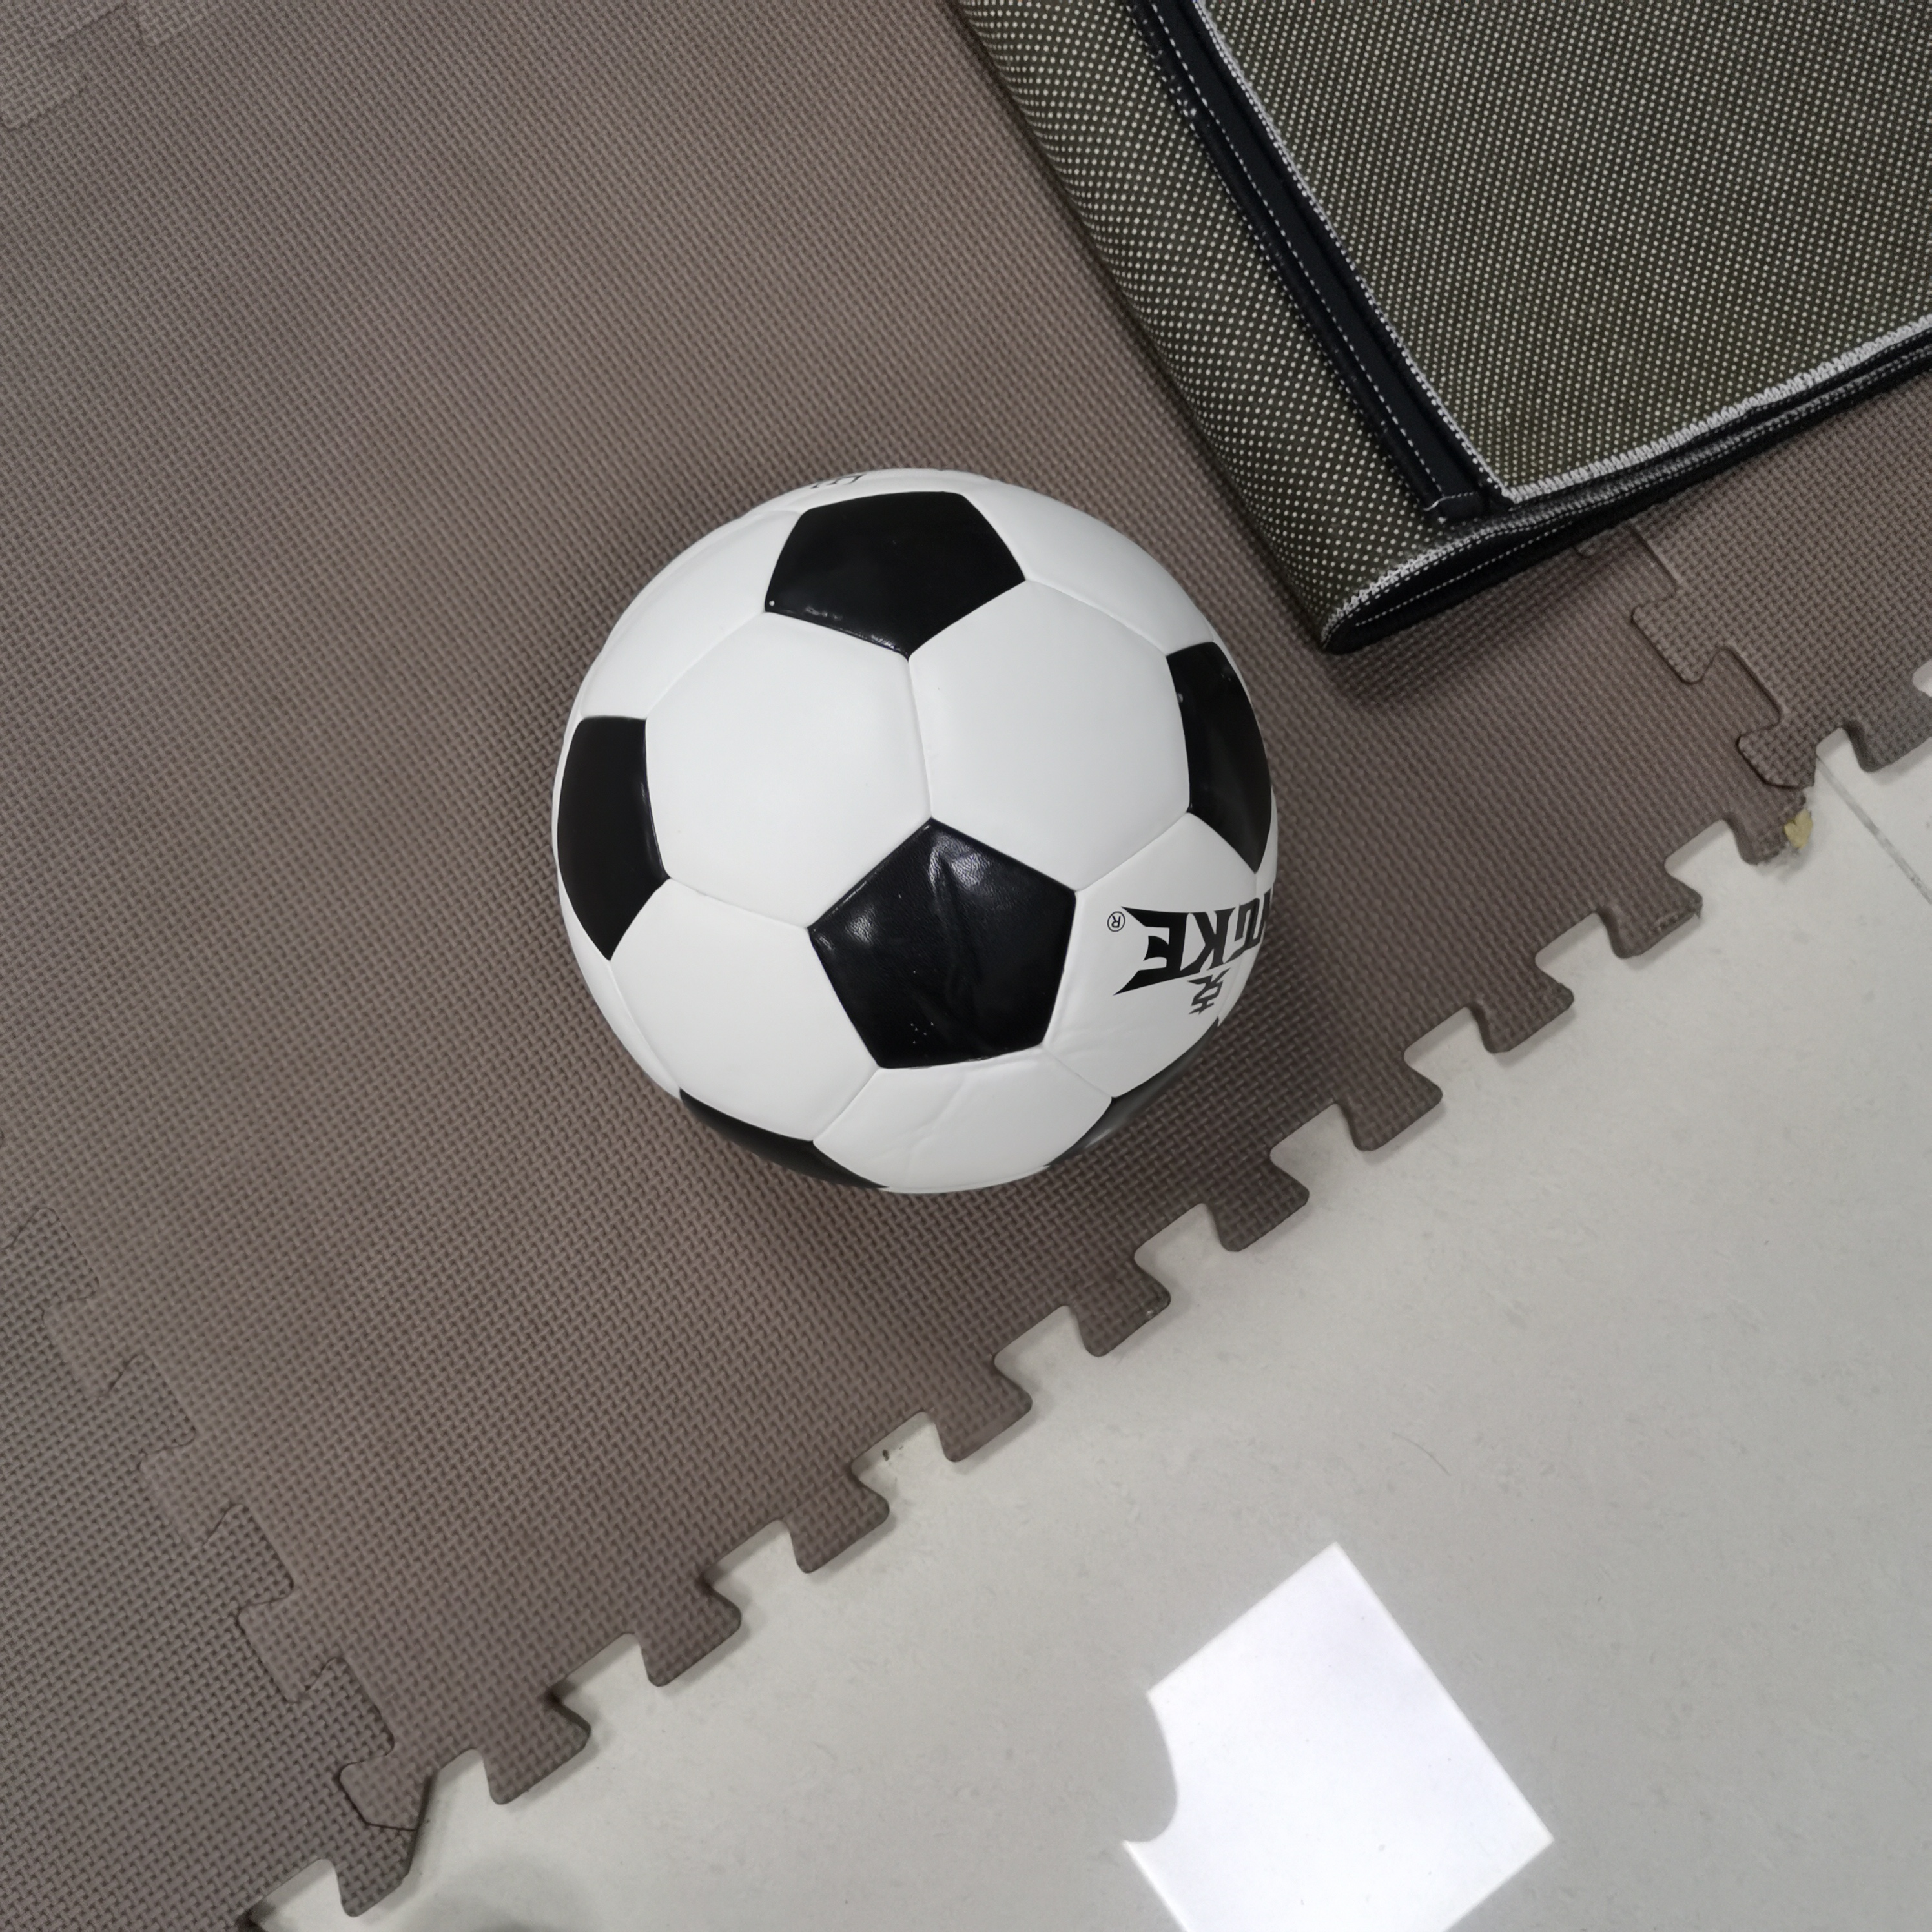football: (552, 465, 1284, 1198)
